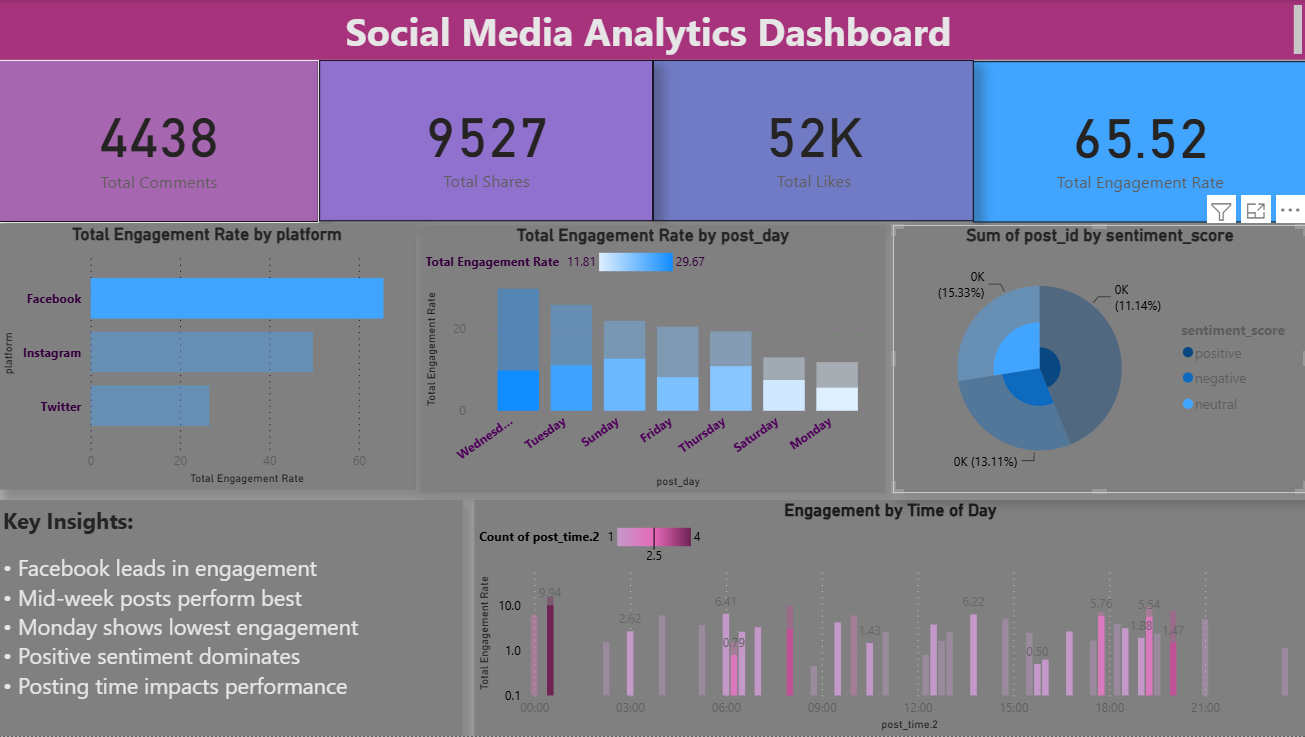

The page's visual inventory and layout, read from the dashboard file:
{"tool":"powerbi","page":{"name":"Page 1","canvas":[1280,720],"ordinal":0},"visuals":[{"type":"card","title":"Total Comments","fields":{"Values":["social_media_engagement1 (2).Total Comments"]},"box":[0,58.8,313.8,158.8],"z":0},{"type":"card","fields":{"Values":["social_media_engagement1 (2).Total Engagement Rate"]},"box":[953.8,60,326.2,157.5],"z":1000},{"type":"card","fields":{"Values":["social_media_engagement1 (2).Total Likes"]},"box":[640,58.8,313.8,157.5],"z":2000},{"type":"card","fields":{"Values":["social_media_engagement1 (2).Total Shares"]},"box":[314.2,58.7,326.4,157.7],"z":3000},{"type":"barChart","fields":{"Category":["social_media_engagement1 (2).platform"],"Y":["social_media_engagement1 (2).Total Engagement Rate"]},"box":[0,218.8,408.8,260],"z":4000},{"type":"pieChart","fields":{"Category":["social_media_engagement1 (2).sentiment_score"],"Y":["Sum(social_media_engagement1 (2).post_id)"]},"box":[875,220,405,261.2],"z":5000},{"type":"columnChart","fields":{"Y":["social_media_engagement1 (2).Total Engagement Rate"],"Category":["social_media_engagement1 (2).post_day"]},"box":[413.2,220,454.7,261.6],"z":6000},{"type":"textbox","box":[0,0,1280,58.8],"z":7000},{"type":"textbox","box":[0,488.5,454.2,231.9],"z":8000},{"type":"clusteredColumnChart","title":"Engagement by Time of Day","fields":{"Category":["social_media_engagement1 (2).post_time.2"],"Y":["social_media_engagement1 (2).Total Engagement Rate"]},"box":[465.7,489,814.1,231],"z":9000}]}

Visuals, with their boxes in screenshot pixels (x1, y1, x2, y2), scaled from the page's 1280x720 canvas onto the 1305x737 screenshot:
"Total Comments" card: bbox(0, 60, 320, 223)
card - social_media_engagement1 (2).Total Engagement Rate: bbox(972, 61, 1304, 223)
card - social_media_engagement1 (2).Total Likes: bbox(652, 60, 972, 221)
card - social_media_engagement1 (2).Total Shares: bbox(320, 60, 653, 222)
barChart - social_media_engagement1 (2).platform x social_media_engagement1 (2).Total Engagement Rate: bbox(0, 224, 417, 490)
pieChart - social_media_engagement1 (2).sentiment_score x Sum(social_media_engagement1 (2).post_id): bbox(892, 225, 1304, 493)
columnChart - social_media_engagement1 (2).Total Engagement Rate x social_media_engagement1 (2).post_day: bbox(421, 225, 885, 493)
textbox: bbox(0, 0, 1304, 60)
textbox: bbox(0, 500, 463, 736)
"Engagement by Time of Day" clusteredColumnChart: bbox(475, 501, 1304, 736)
